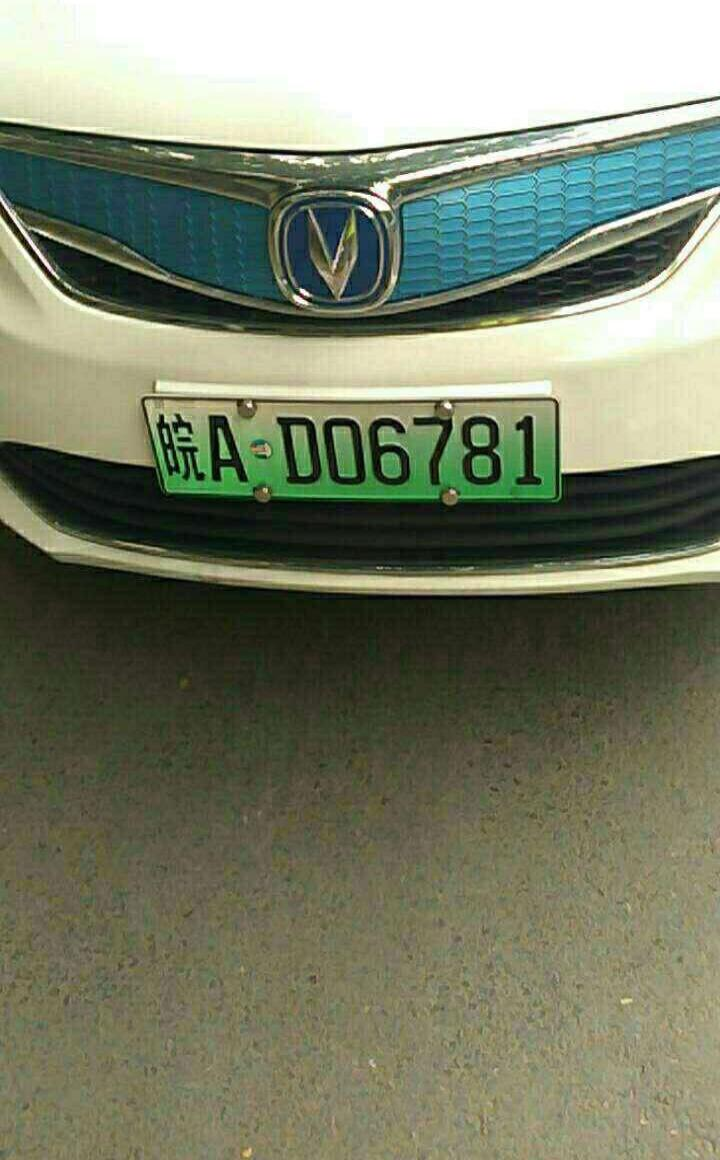car_id: (147, 396, 553, 507)
